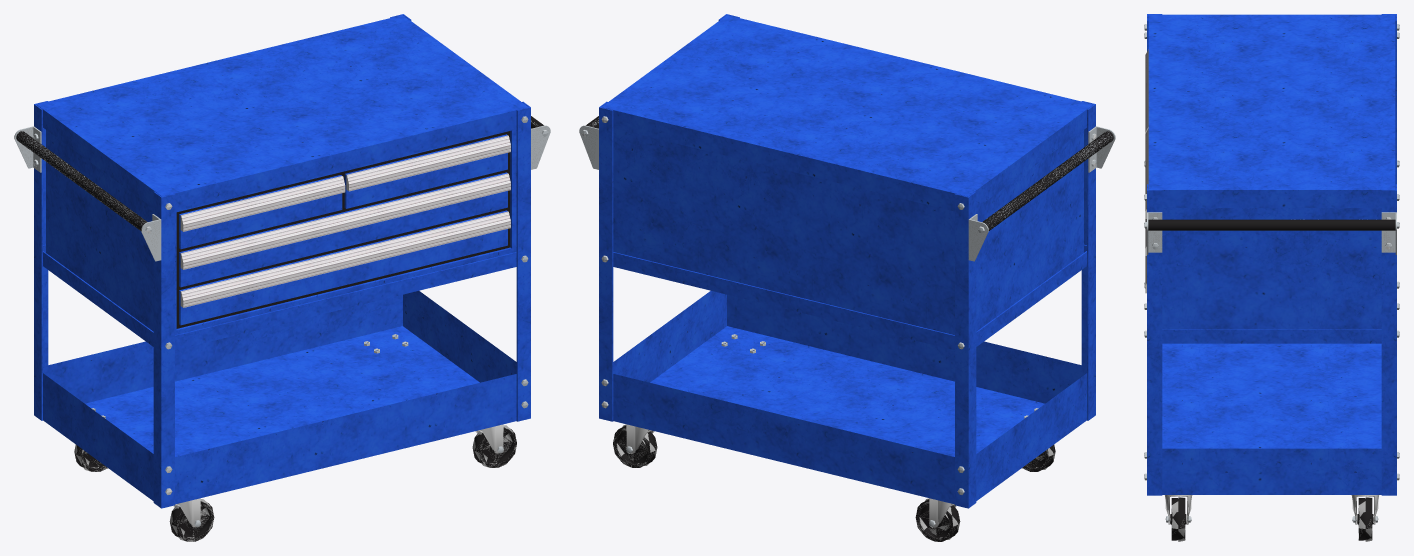
The model's file is tool-cart.glb.
The picture shows the model from 3 angles, left to right: view 1: azimuth 30°, elevation 25°; view 2: azimuth 150°, elevation 25°; view 3: azimuth 270°, elevation 25°; orthographic projection. The views are drawn at different scales.
Parts seen in each view (by area): view 1: Material2.012, Material2.064, Material2; view 2: Material2.012, Material2; view 3: Material2.012, Material2, Material2.064.
Boxes of the visible parts, x1,y1,x2,y2 form: Material2.012: (34,14,530,508); Material2.064: (181,135,510,307); Material2: (14,116,550,541); Material2.012: (599,14,1095,508); Material2: (579,116,1115,541); Material2.012: (1147,14,1396,495); Material2: (1144,24,1399,541); Material2.064: (1145,49,1148,285).
Size of the model in its own units: 1.11 by 0.95 by 0.6126.
3 materials, 3 textured.
